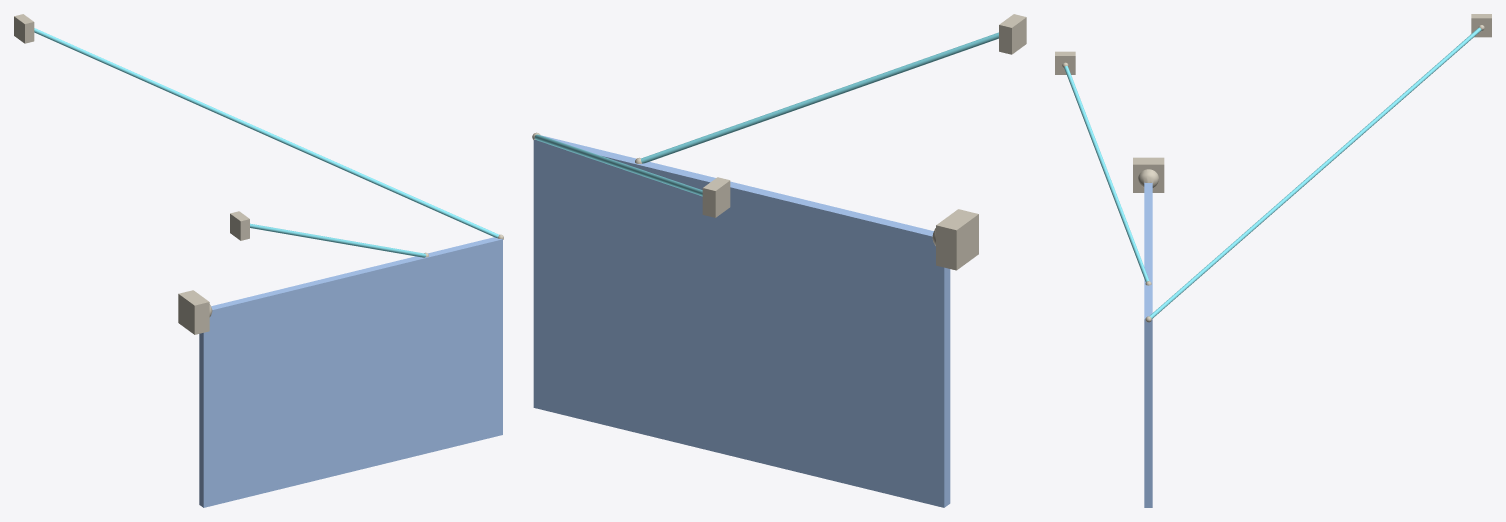
3 views of the same model, side by side, from view 1: azimuth 30°, elevation 25°; view 2: azimuth 150°, elevation 25°; view 3: azimuth 270°, elevation 25° (orthographic). The views are drawn at different scales.
Visible parts, largest first — view 1: Problem 4.8; view 2: Problem 4.8; view 3: Problem 4.8.
Part boxes in pixels (x1,y1,x2,y2): Problem 4.8: [14, 14, 503, 507]; Problem 4.8: [532, 14, 1026, 507]; Problem 4.8: [1055, 14, 1491, 507].
Size of the model in its own units: 0.2153 by 0.2349 by 0.2667.
